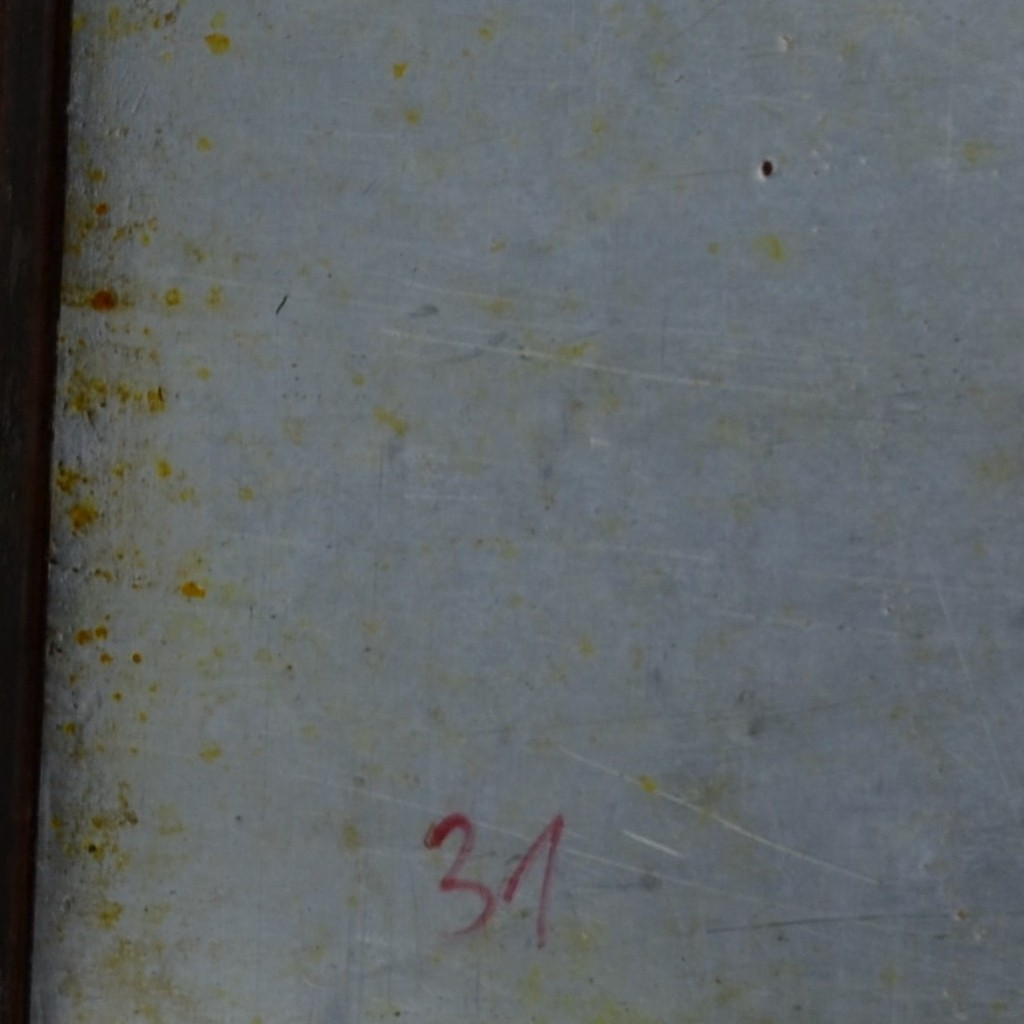varroa: (758, 154, 775, 179)
